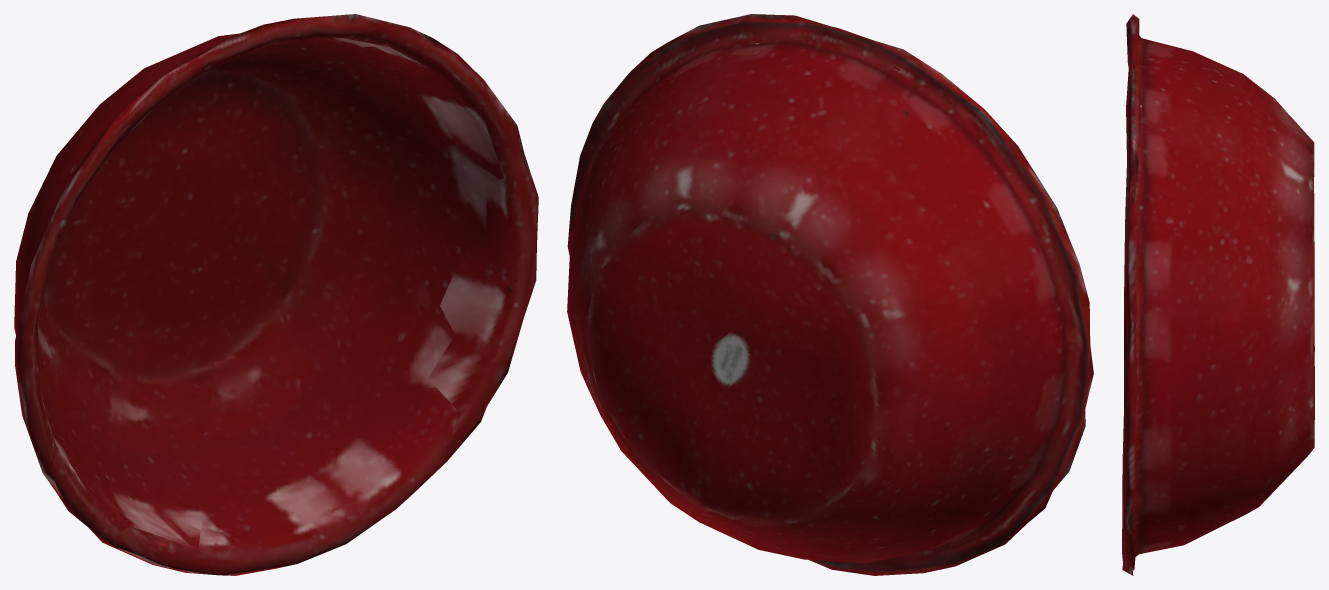
The model's file is 024_bowl.obj.
3 views of the same model, side by side, from view 1: azimuth 30°, elevation 25°; view 2: azimuth 150°, elevation 25°; view 3: azimuth 270°, elevation 25° (orthographic). The views are drawn at different scales.
Visible parts, largest first — view 1: textured_simple.013; view 2: textured_simple.013; view 3: textured_simple.013.
Part boxes in pixels (bbox=[...]): textured_simple.013: bbox=[14, 14, 538, 575]; textured_simple.013: bbox=[567, 14, 1093, 575]; textured_simple.013: bbox=[1122, 14, 1314, 575].
Size of the model in its own units: 0.1604 by 0.16 by 0.055.
1 material, 1 textured.
